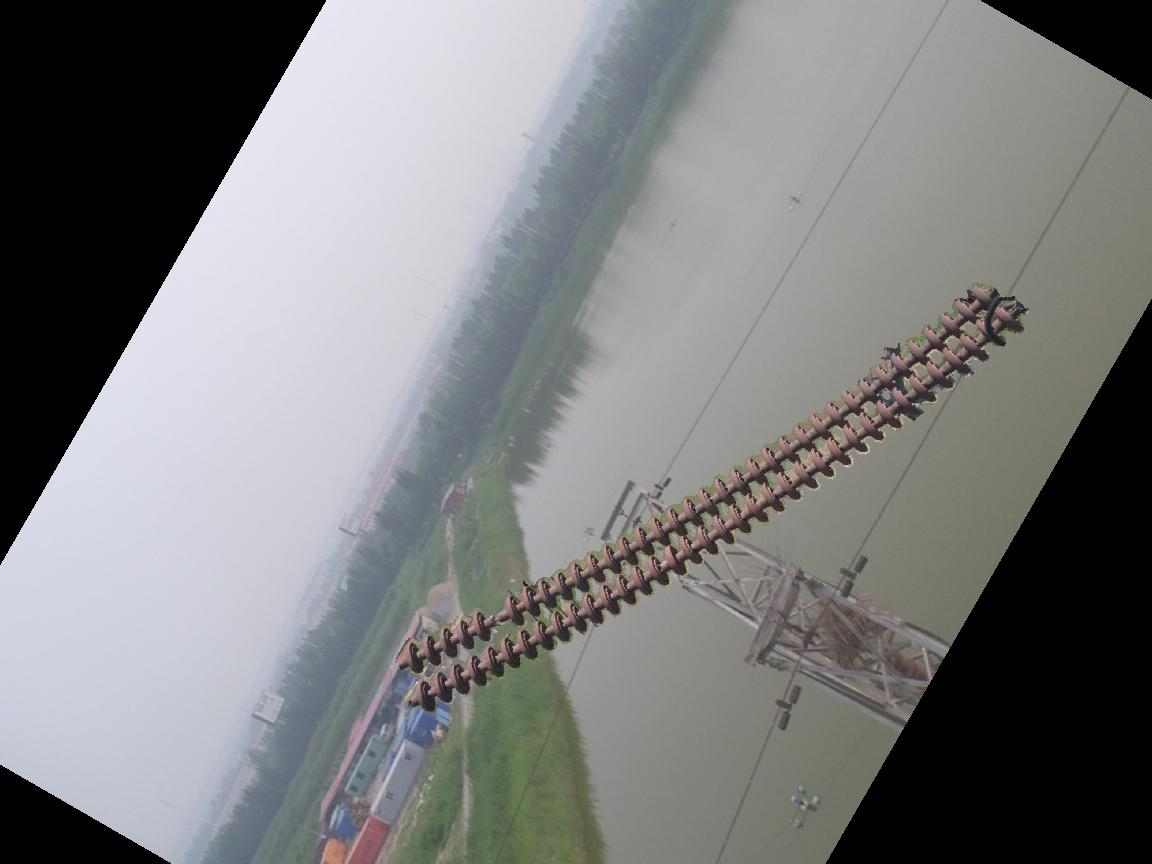insulator: (401, 275, 1026, 714)
insulator_stringdrop: (469, 590, 526, 646)
